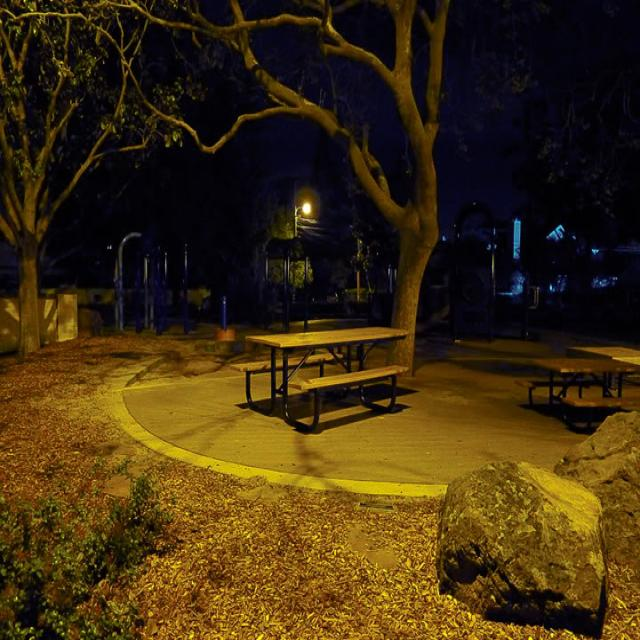Table: (232, 309, 414, 420), (531, 331, 632, 414)
chair: (295, 347, 434, 456), (555, 386, 640, 445)
